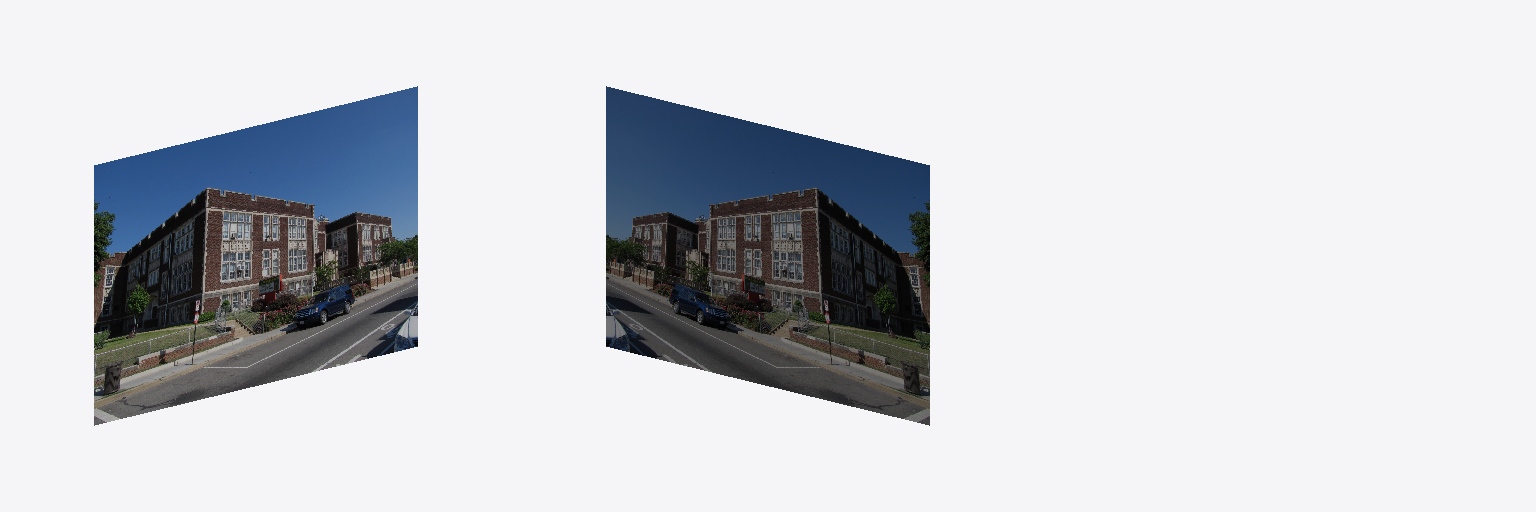
3 renders of one model, left to right at view 1: azimuth 30°, elevation 25°; view 2: azimuth 150°, elevation 25°; view 3: azimuth 270°, elevation 25°, orthographic.
Size of the model in its own units: 2.6 by 2 by 0.
1 materials, 1 textured.